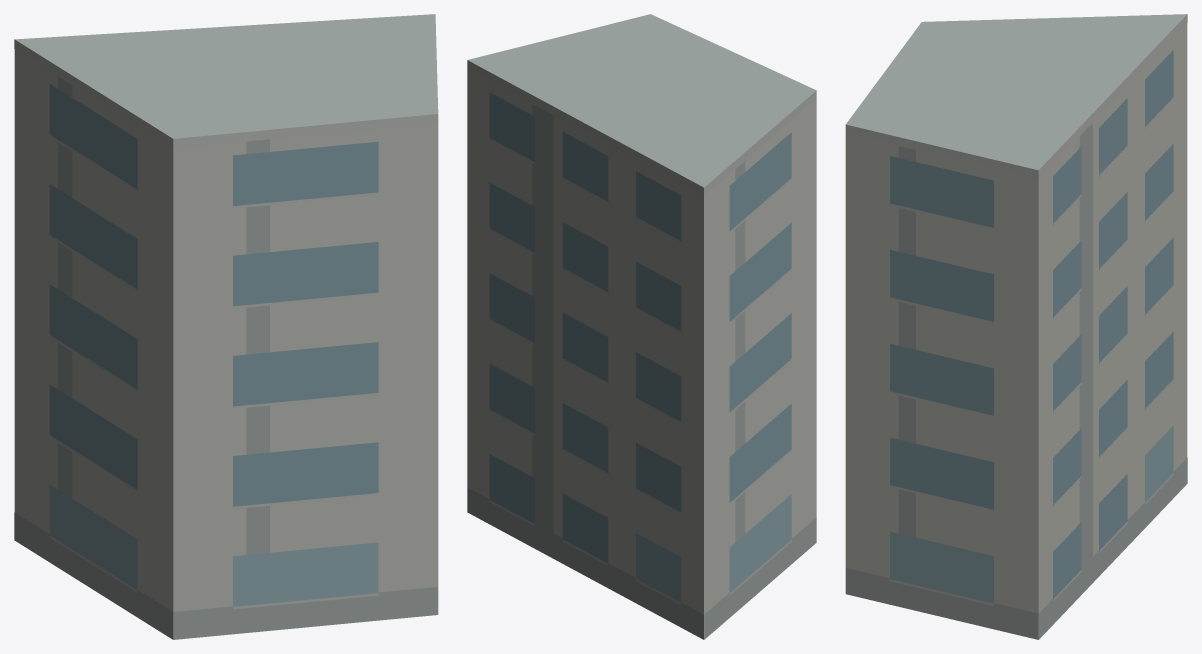
File: survey-upis-32724560.glb
The picture shows the model from 3 angles, left to right: view 1: azimuth 30°, elevation 25°; view 2: azimuth 150°, elevation 25°; view 3: azimuth 270°, elevation 25°; orthographic projection. The views are drawn at different scales.
Visible parts, largest first — view 1: survey-upis-32724560.tmp; view 2: survey-upis-32724560.tmp; view 3: survey-upis-32724560.tmp.
Boxes of the visible parts, bbox=[...] form: survey-upis-32724560.tmp: bbox=[14, 14, 438, 639]; survey-upis-32724560.tmp: bbox=[467, 14, 816, 639]; survey-upis-32724560.tmp: bbox=[845, 14, 1187, 639].
Bounding box in the file's own units: 9.07 × 12.7 × 8.39.
